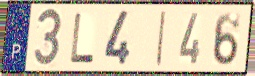3: (33, 6, 63, 71)
4: (103, 8, 134, 67), (178, 12, 201, 66)
6: (212, 10, 241, 67)
I: (154, 9, 168, 68)
L: (68, 11, 95, 65)
